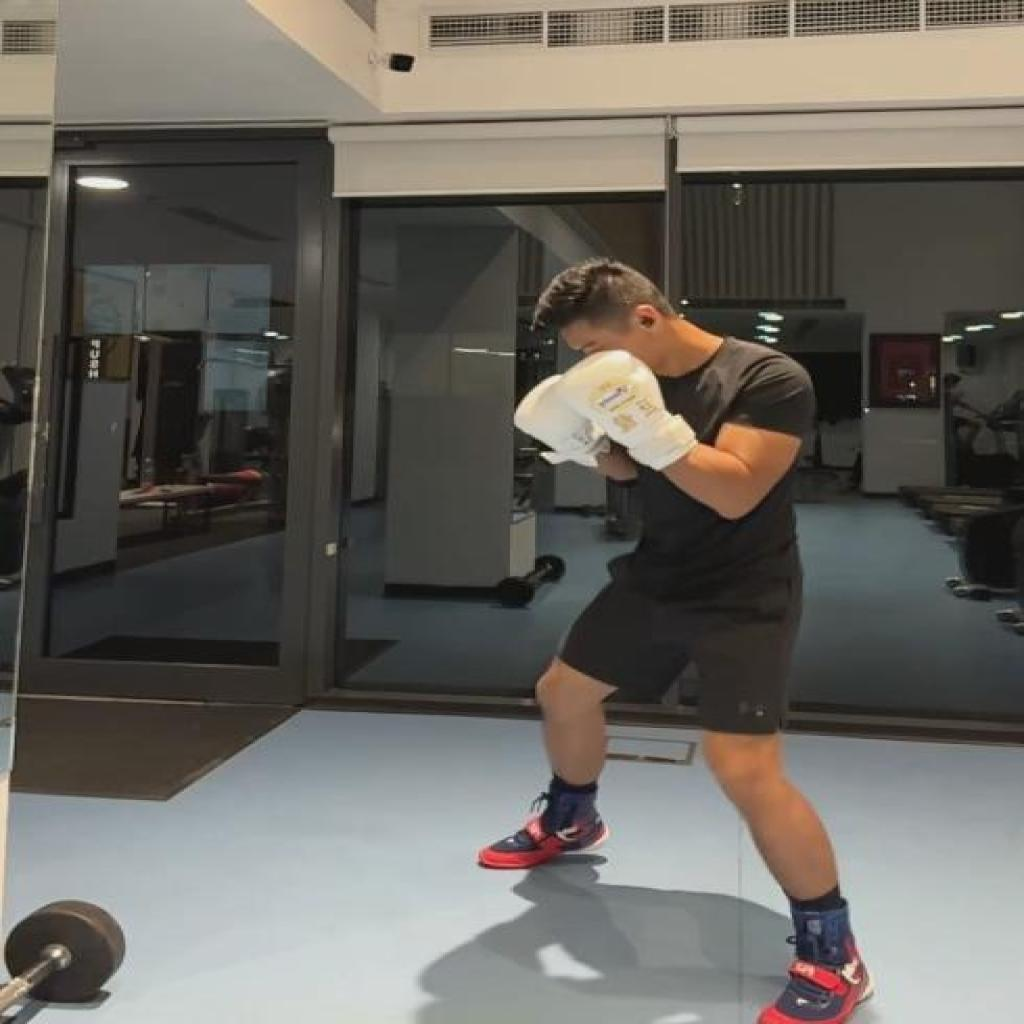no punch: (478, 251, 882, 1024)
